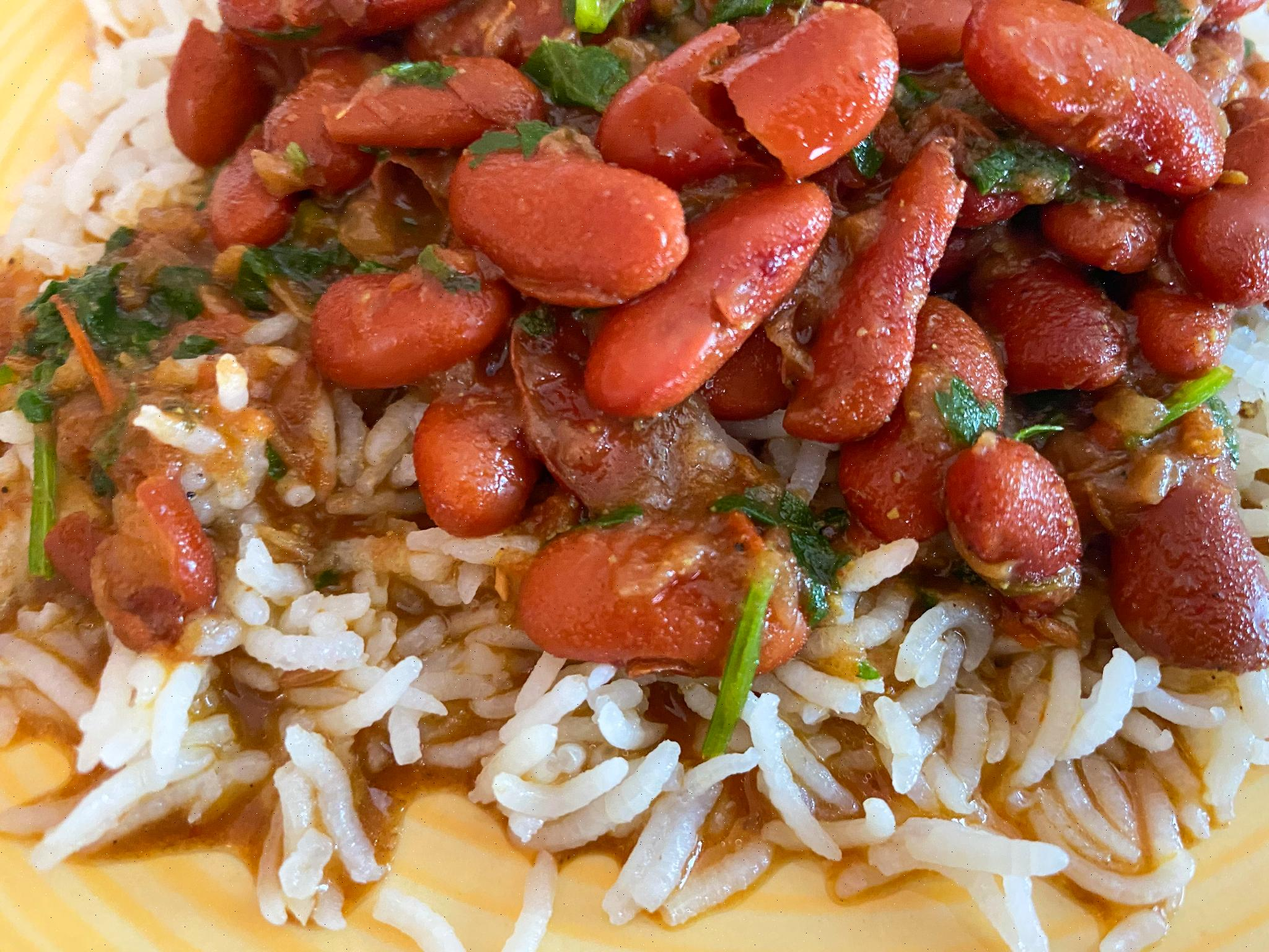rajma: (245, 0, 1269, 579)
